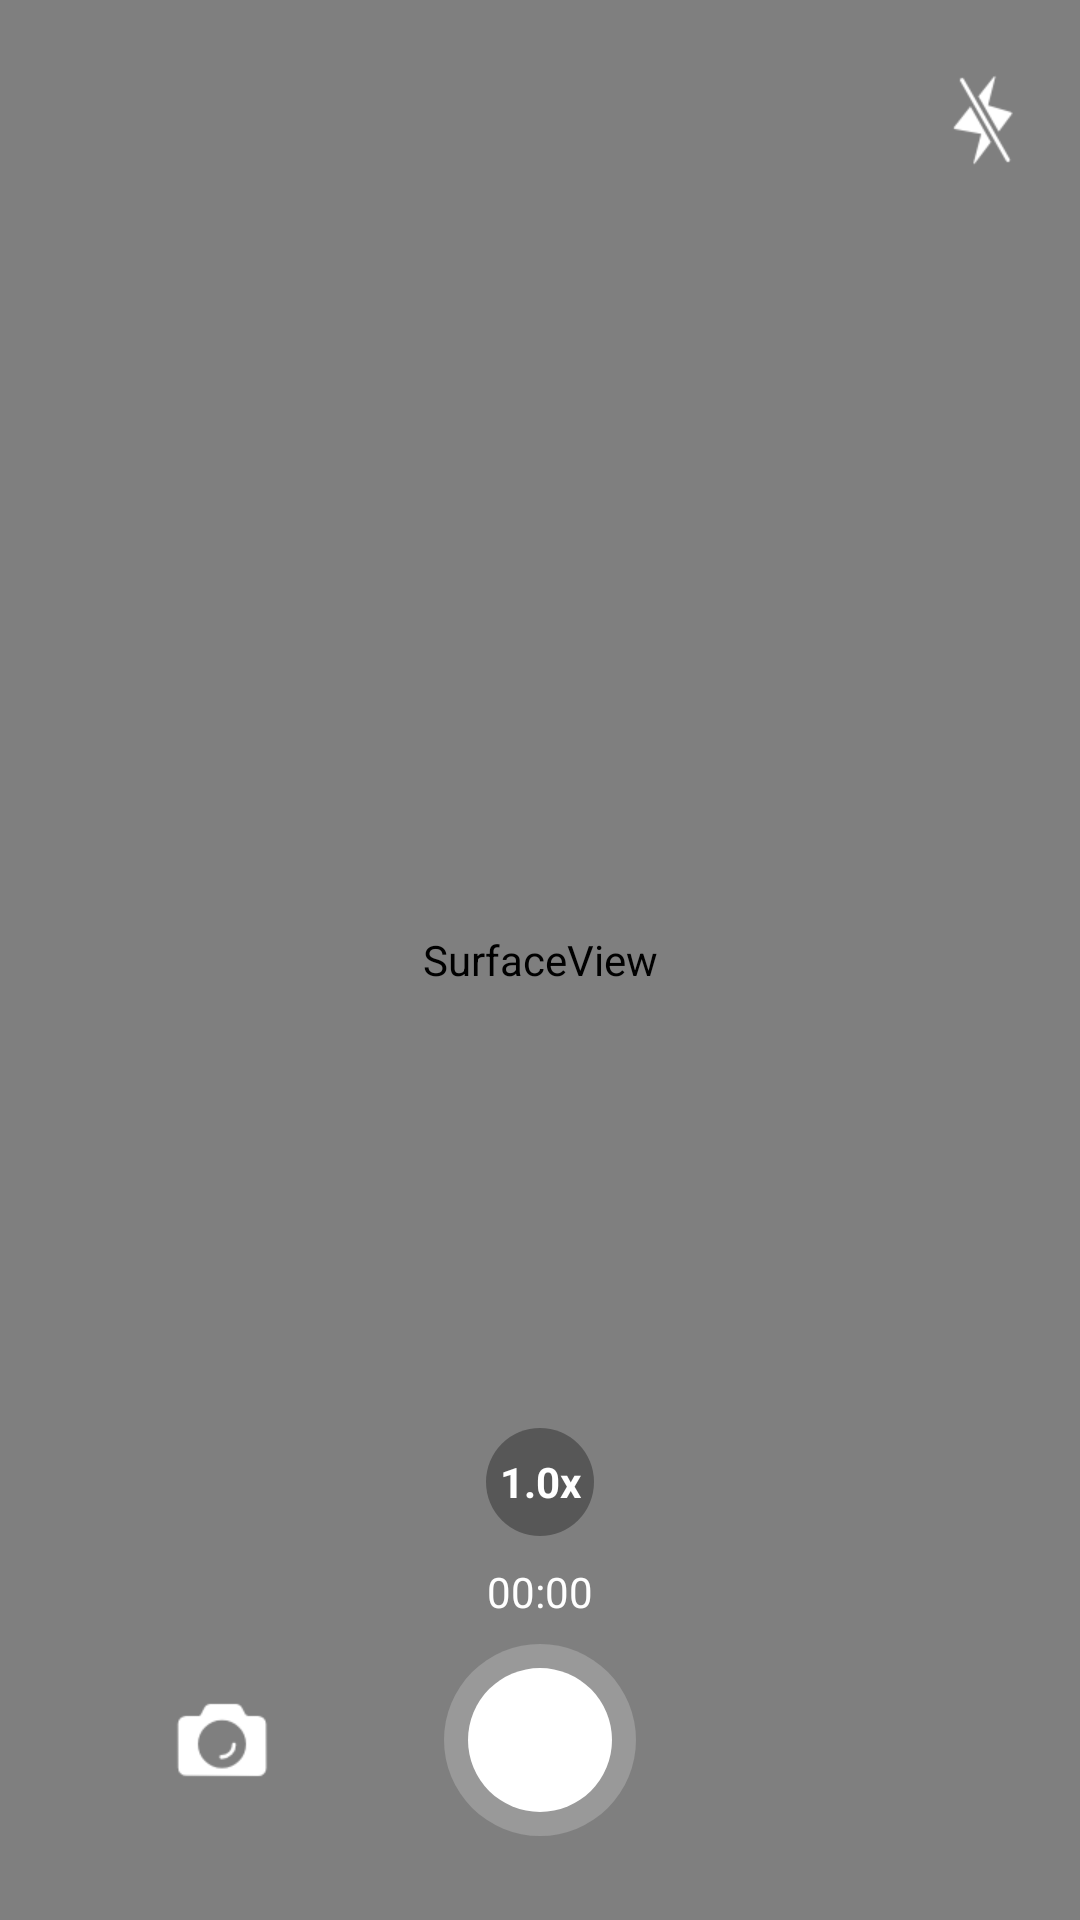

Icons on this 1080px×1920px Android screen, each with its box as (x1, y1, x2, y2):
flash off: (954, 76, 1013, 164)
